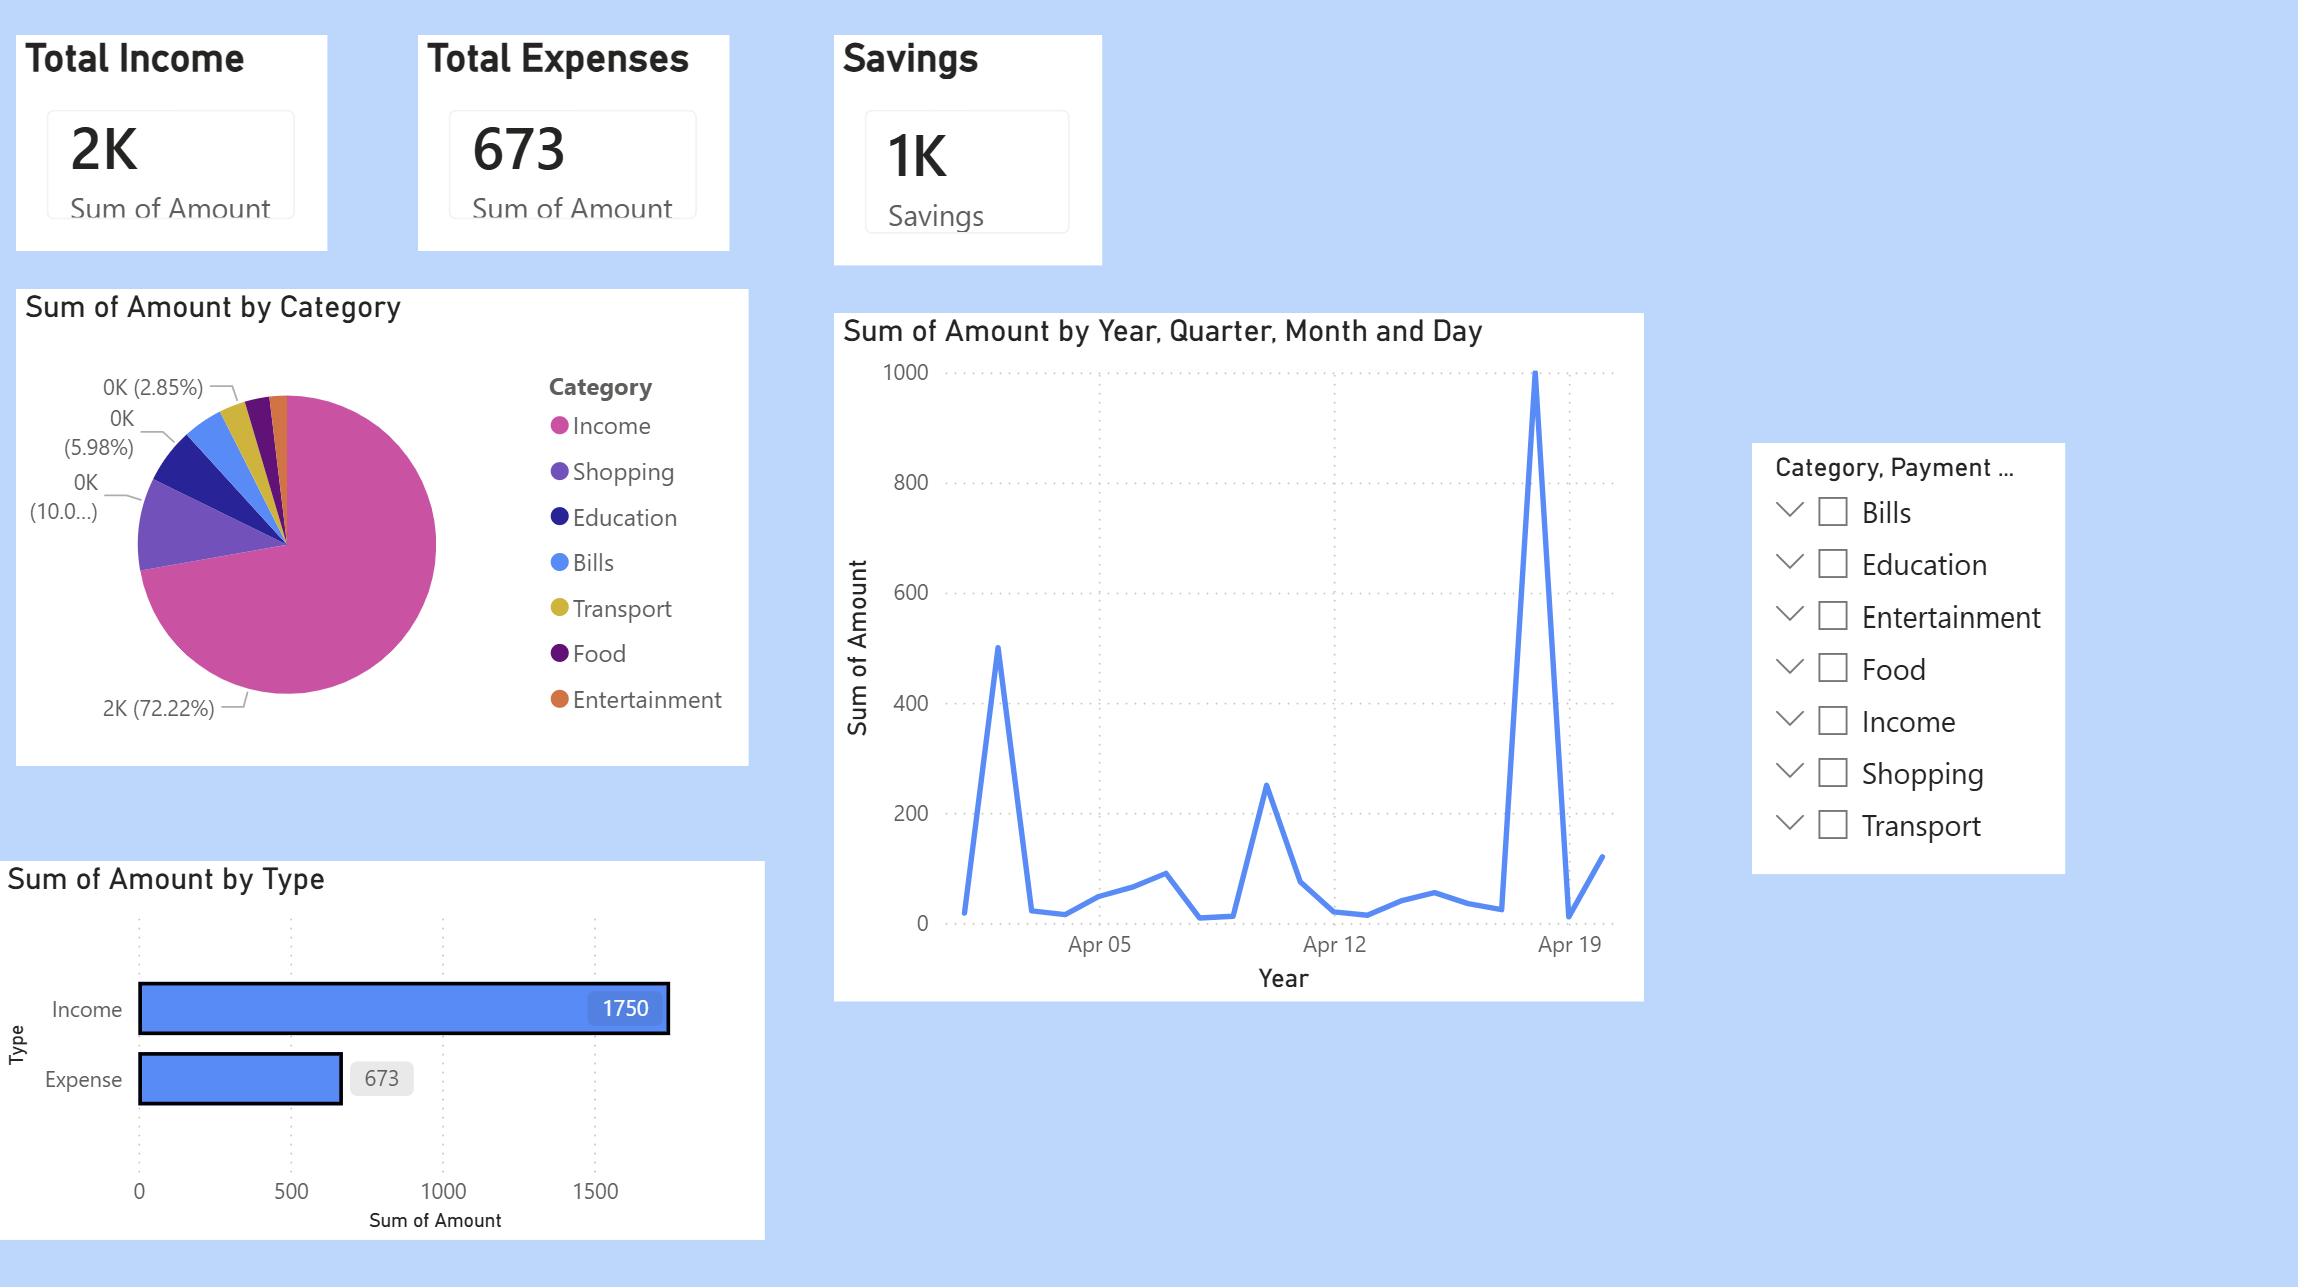

The dashboard page shown, as its layout file describes it:
{"tool":"powerbi","page":{"name":"Student Expense Tracker Dashboard","canvas":[1280,720],"ordinal":0},"visuals":[{"type":"lineChart","fields":{"Category":["Expenses_Table.Date.Variation.Date Hierarchy.Year","Expenses_Table.Date.Variation.Date Hierarchy.Quarter","Expenses_Table.Date.Variation.Date Hierarchy.Month","Expenses_Table.Date.Variation.Date Hierarchy.Day"],"Y":["Sum(Expenses_Table.Amount)"]},"box":[464.8,174.8,449.9,382.3],"z":0},{"type":"pieChart","fields":{"Category":["Expenses_Table.Category"],"Y":["Sum(Expenses_Table.Amount)"]},"box":[9.9,160.9,407.2,265.2],"z":1000},{"type":"clusteredBarChart","fields":{"Category":["Expenses_Table.Type"],"Y":["Sum(Expenses_Table.Amount)"]},"box":[0,478.7,426,210.5],"z":2000},{"type":"cardVisual","title":"Total Income","fields":{"Data":["Sum(Expenses_Table.Amount)"]},"box":[9.9,19.9,172.8,120.2],"z":3000},{"type":"cardVisual","title":"Total Expenses","fields":{"Data":["Sum(Expenses_Table.Amount)"]},"box":[233.4,19.9,172.8,120.2],"z":4000},{"type":"cardVisual","title":"Savings","fields":{"Data":["Expenses_Table.Savings"]},"box":[464.4,20,148.9,127.8],"z":5000},{"type":"slicer","fields":{"Values":["Expenses_Table.Category","Expenses_Table.Payment Method","Expenses_Table.Date"]},"box":[974.2,246.3,173.8,239.3],"z":6000}]}

Visuals, with their boxes in screenshot pixels (x1, y1, x2, y2), scaled from the page's 1280x720 canvas onto the 2298x1287 screenshot:
lineChart - Expenses_Table.Date.Variation.Date Hierarchy.Year x Expenses_Table.Date.Variation.Date Hierarchy.Quarter: rect(834, 312, 1642, 996)
pieChart - Expenses_Table.Category x Sum(Expenses_Table.Amount): rect(18, 288, 749, 762)
clusteredBarChart - Expenses_Table.Type x Sum(Expenses_Table.Amount): rect(0, 856, 765, 1232)
"Total Income" cardVisual: rect(18, 36, 328, 250)
"Total Expenses" cardVisual: rect(419, 36, 729, 250)
"Savings" cardVisual: rect(834, 36, 1101, 264)
slicer - Expenses_Table.Category x Expenses_Table.Payment Method: rect(1749, 440, 2061, 868)
